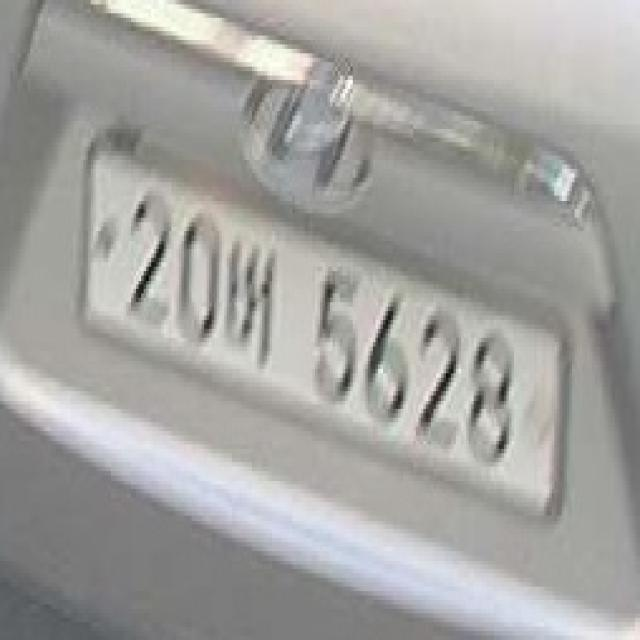plat: (77, 124, 572, 521)
